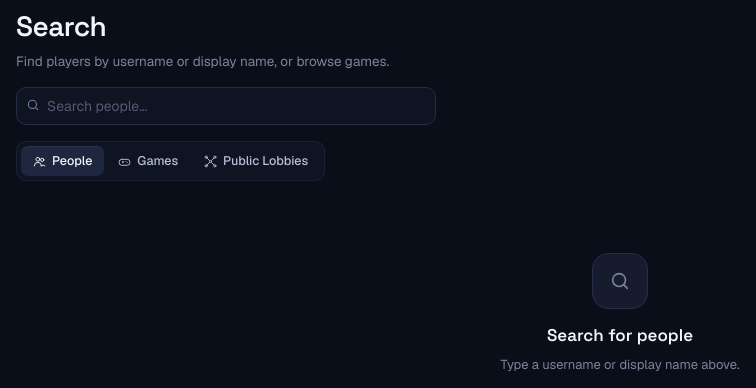
SearchResultsPage — Public Lobbies tab › switching from People to the Lobbies tab loads lobbies exactly once
This screenshot has width=756, height=388.
Click the tab "Public Lobbies" at [256, 161], box [192,146,320,176]
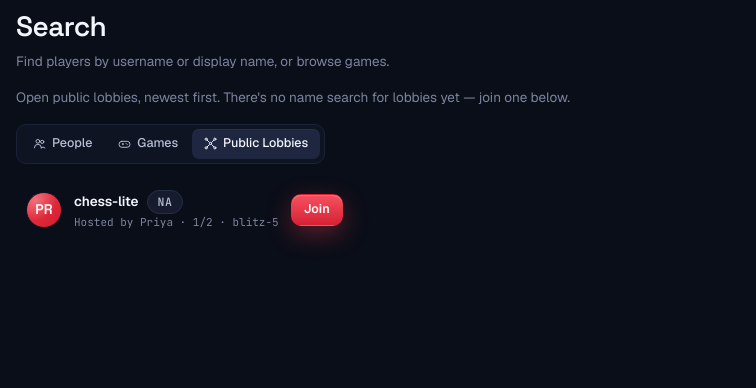
expect the text "chess-lite" is shown: met, box [74,191,139,212]
